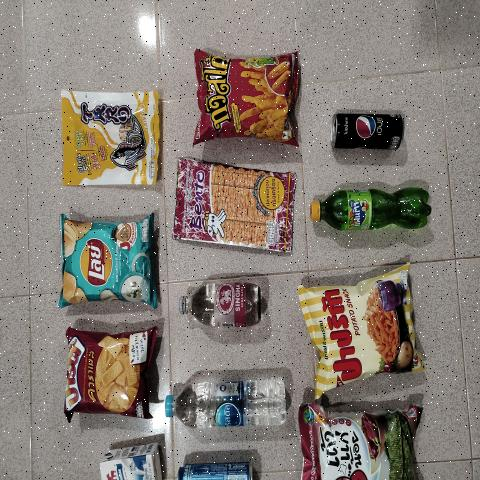bento_red: (177, 167, 291, 246)
crystal: (162, 378, 286, 426)
fanta_green: (306, 180, 430, 235)
lay_blue: (65, 224, 151, 306)
paprika: (310, 289, 420, 370)
party_red: (64, 334, 148, 416)
pepsi_black: (324, 110, 406, 153)
singha_soda: (177, 279, 262, 328)
taro_yellow: (63, 91, 156, 184)
twisco: (200, 61, 294, 140)
